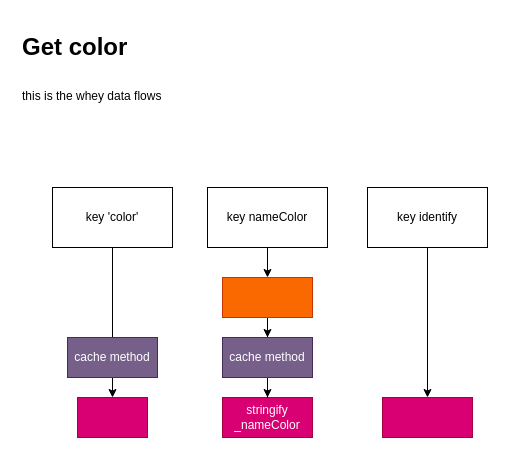
This 505x455 diagram has some shape labels left out. The shapes that lost their labels are listed below. From the top down, each one's centre as x and y in pixels, then its label:
At [267,297]: "use getter _nameColor".
At [112,417]: "stringify _color".
At [427,417]: "stringify _identify".
